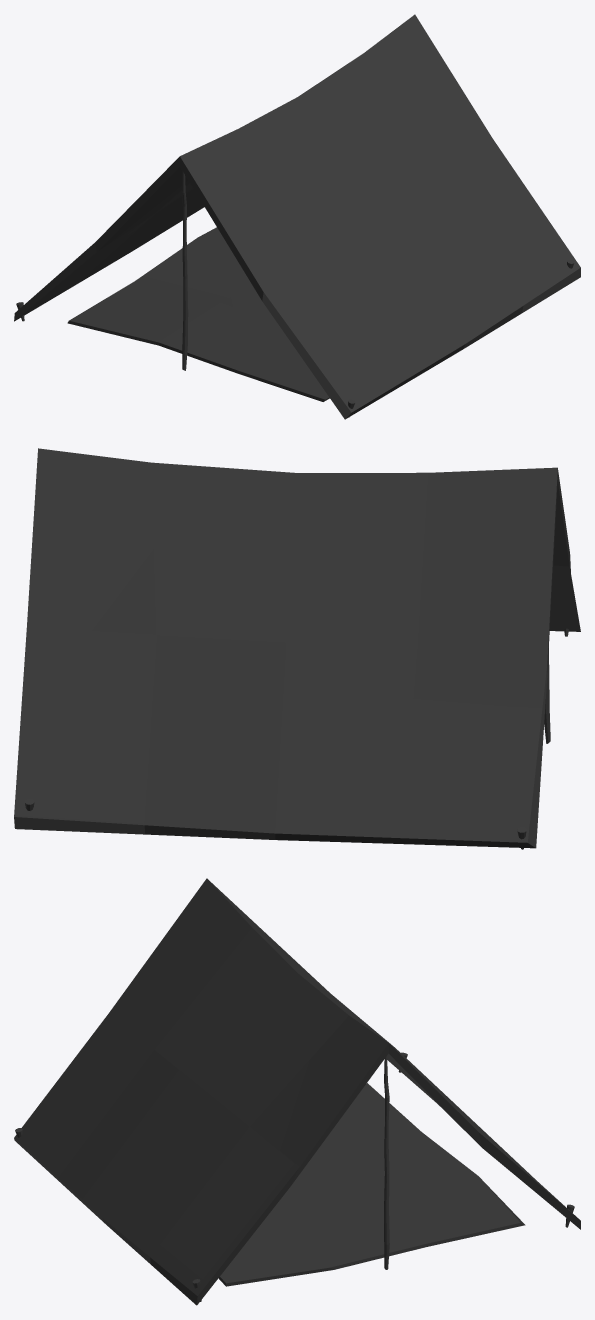
Rendered from tent.glb.
3 views of the same model, one above another, from view 1: azimuth 30°, elevation 25°; view 2: azimuth 150°, elevation 25°; view 3: azimuth 270°, elevation 25° (orthographic). The views are drawn at different scales.
Parts seen in each view (by area): view 1: Tent; view 2: Tent; view 3: Tent.
Boxes of the visible parts, x1,y1,x2,y2 form: Tent: (14, 14, 580, 419); Tent: (14, 448, 580, 849); Tent: (14, 878, 580, 1305).
Size of the model in its own units: 4.96 by 2.2 by 4.93.
1 material, 1 textured.
